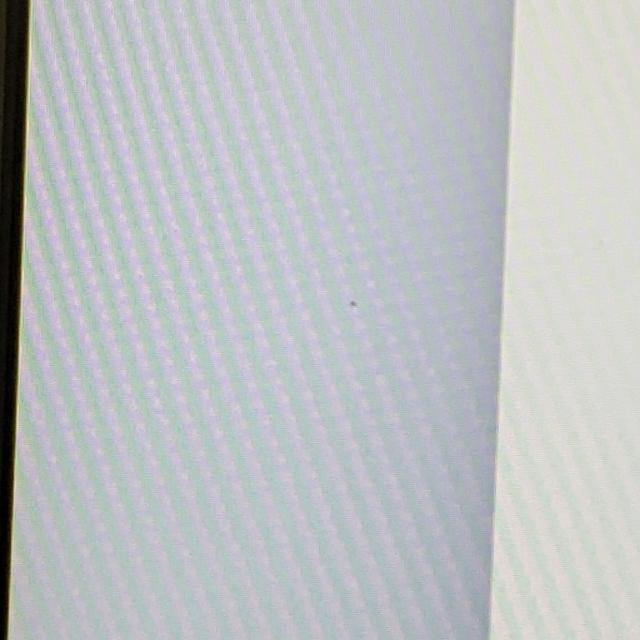Dead pixel: (350, 300, 357, 307)
